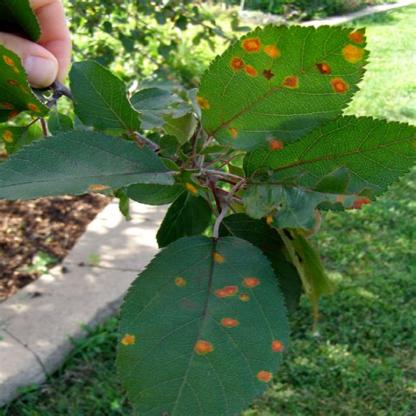black-spot: (170, 248, 266, 364), (240, 39, 354, 92)
